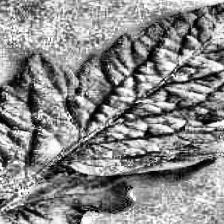leaf mold: (0, 0, 224, 201)
